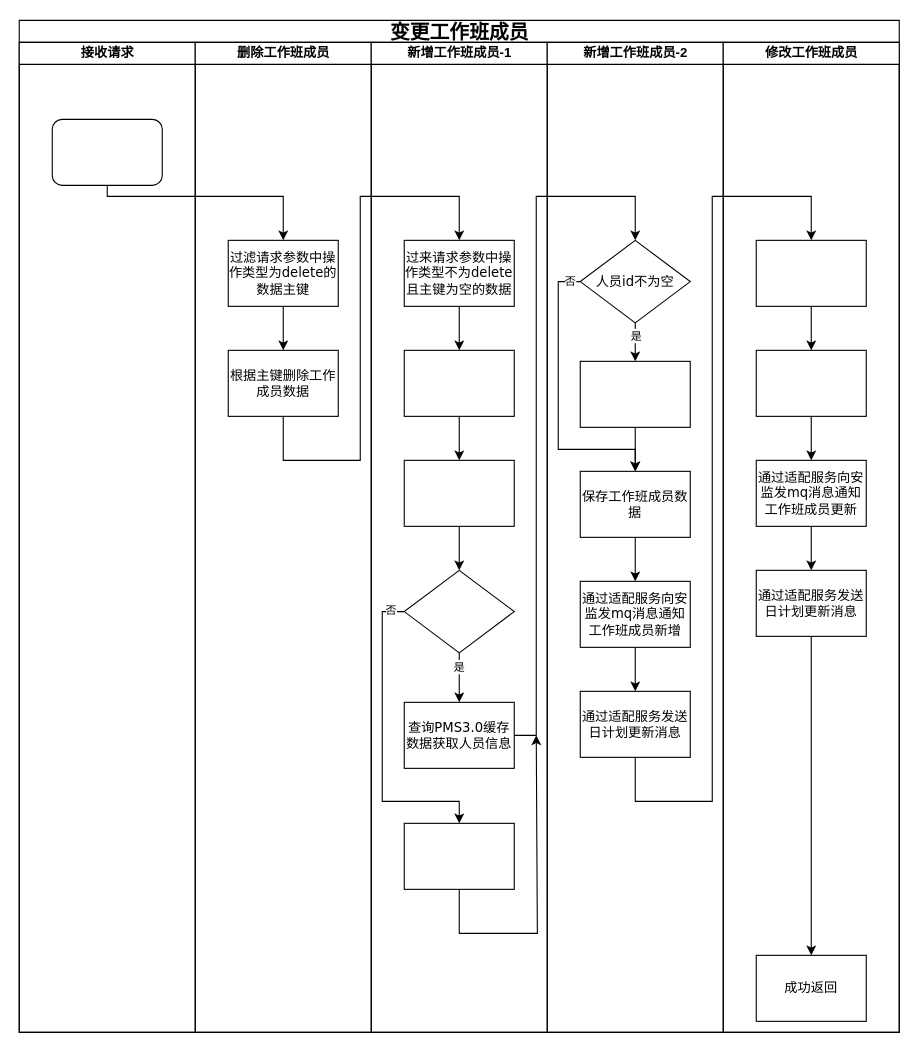
Some shapes in this 919 by 1052 pixel diagram are drawn without their labels. Here are the shapes that lost their labels. From the top down, the centre of each, then its label:
the point at 106,151: 开始
the point at 810,272: 过来请求参数中操作类型不为delete且主键不为空的数据
the point at 458,382: 查询并设置工作成员的单位名称
the point at 634,393: 查询外包人员信息并根据入职时间判断和设置是否新人字段
the point at 810,382: 更新工作班成员数据
the point at 458,492: 调用系统参数接口获取安全准入人员及单位查询配置
the point at 458,611: 配置项值为01
the point at 458,855: 查询安全监管中心数据获取人员信息
